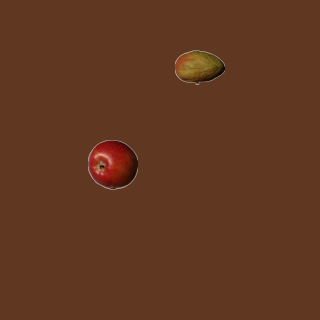Apple Braeburn: (87, 139, 137, 189)
Papaya: (174, 42, 224, 92)
